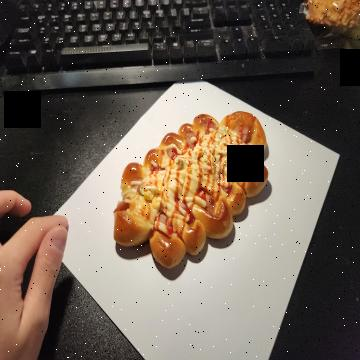pizza_bread: (112, 114, 271, 269)
